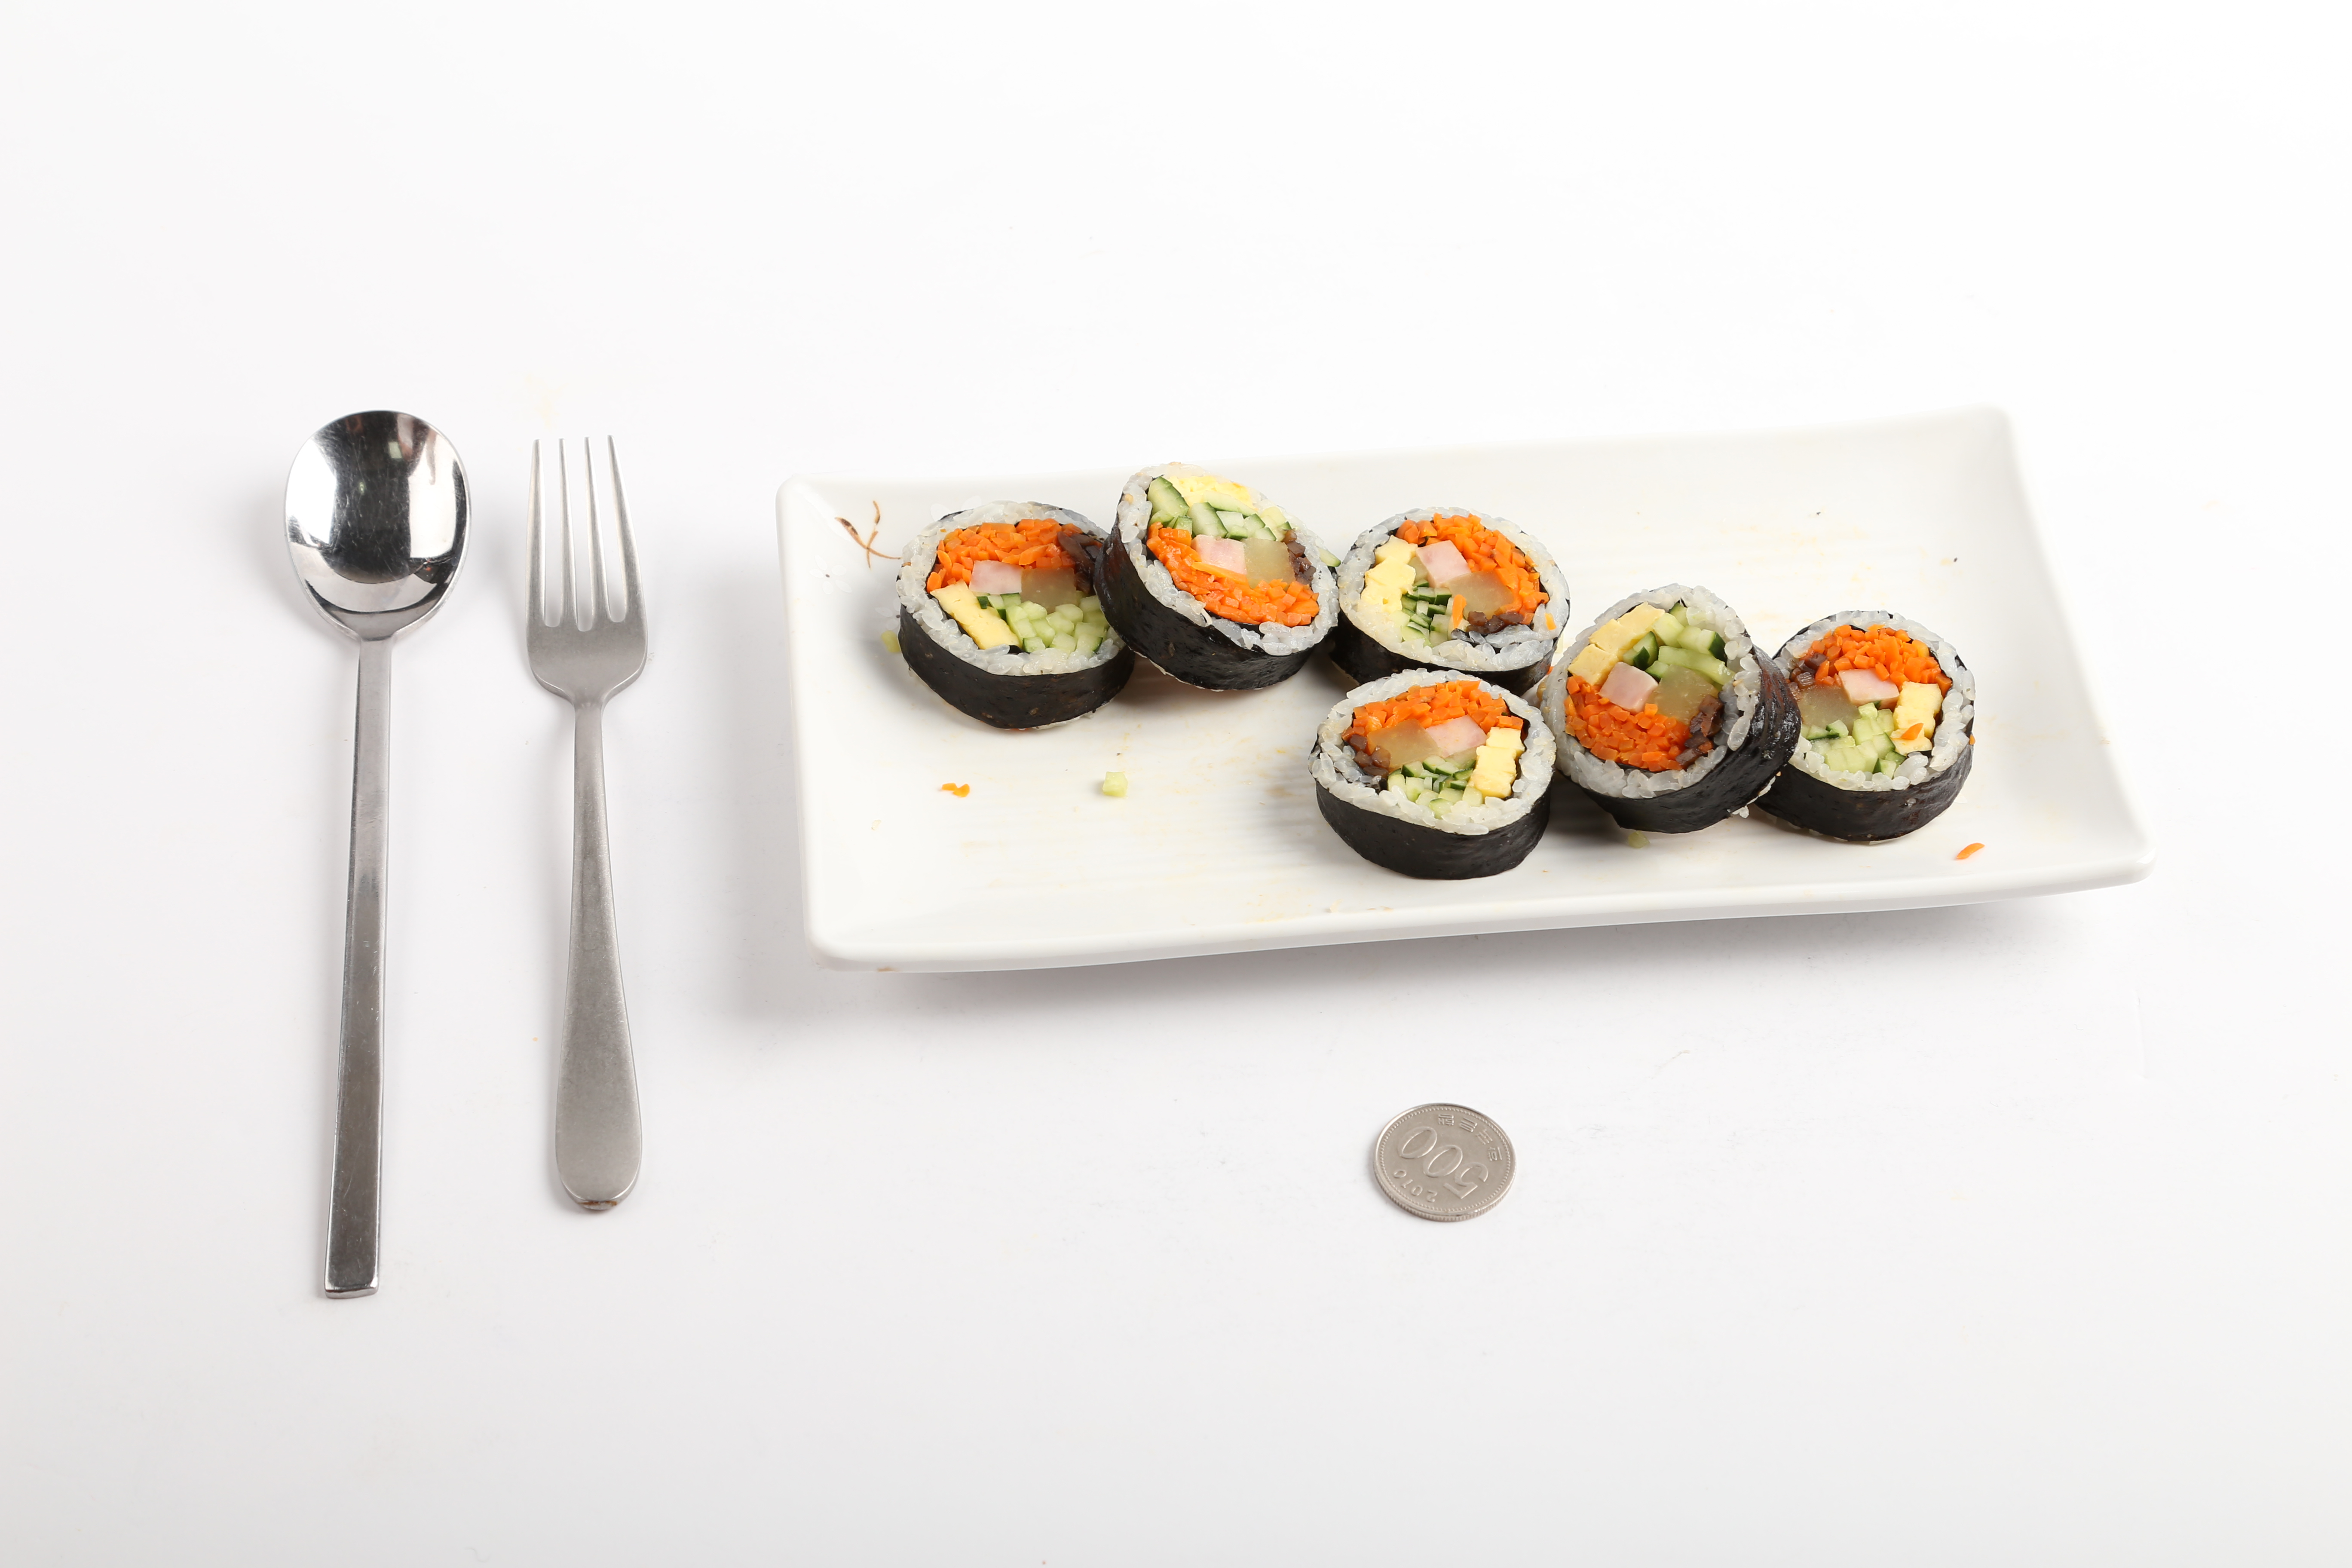dish: (773, 399, 2163, 969)
ref_coin: (1368, 1085, 1521, 1228)
ref_fork: (518, 434, 654, 780)
ref_spoon: (285, 406, 472, 768)
김밥: (891, 457, 1981, 877)
